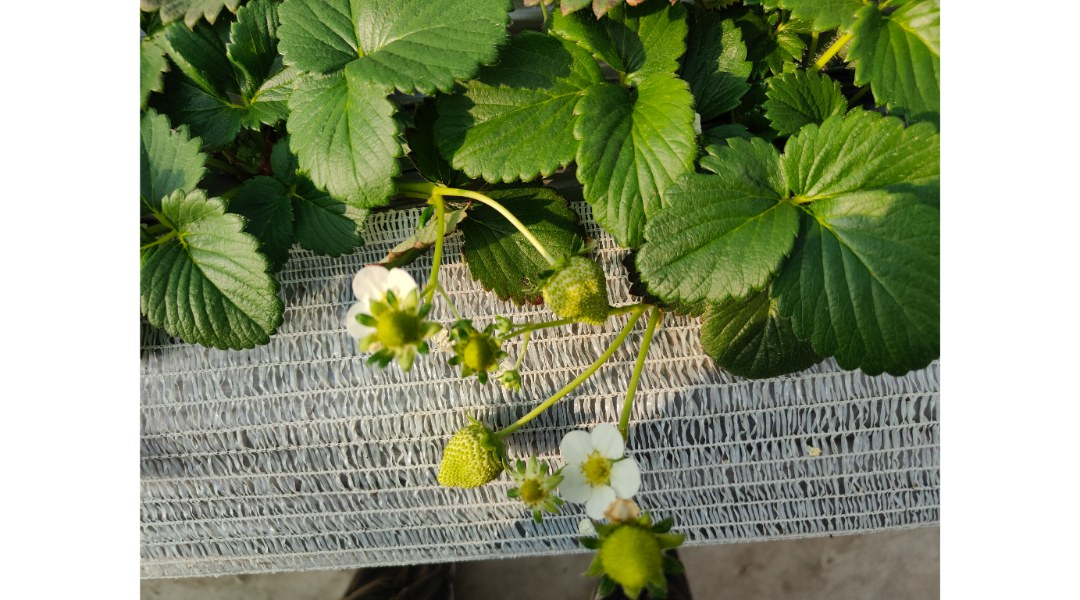berry: (525, 244, 627, 337), (431, 414, 505, 505), (359, 288, 431, 378), (449, 319, 514, 396)
flower: (548, 420, 646, 517), (336, 265, 431, 337)
strain: (489, 313, 632, 435), (465, 192, 561, 266), (617, 305, 663, 434), (413, 204, 447, 303)
